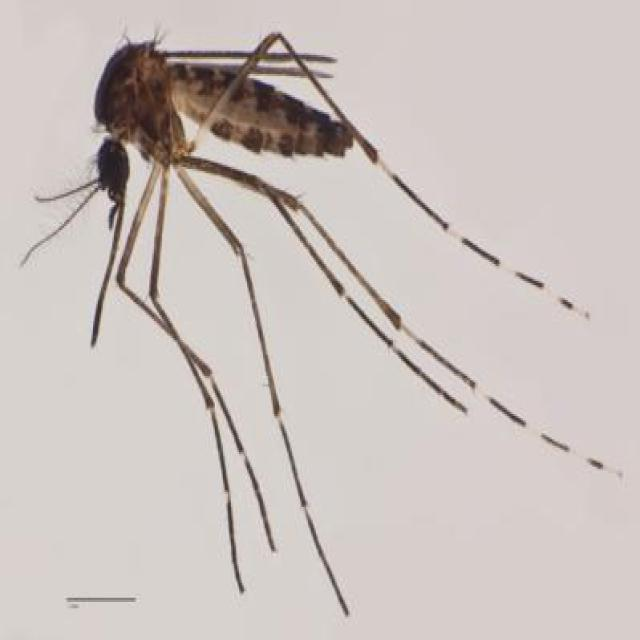antennae: (15, 163, 100, 280)
body: (101, 39, 348, 198)
insect: (17, 24, 624, 614)
legs: (125, 152, 629, 604)
mouthpart: (82, 190, 132, 350)
wings: (130, 36, 345, 87)
